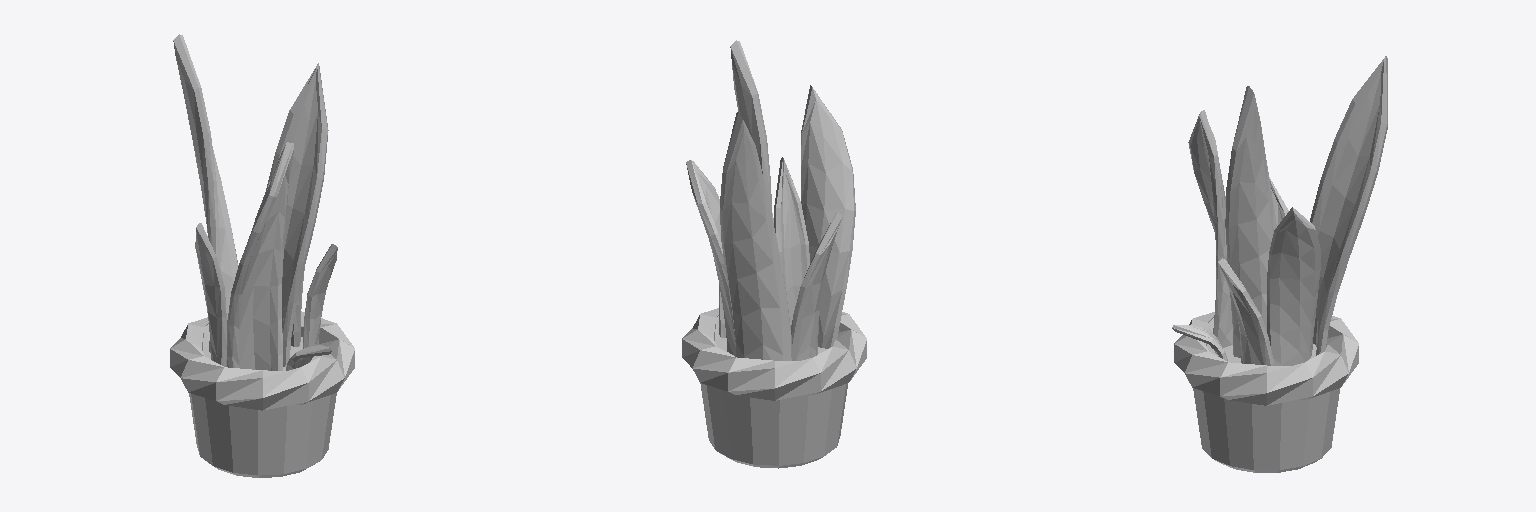
File: sansevieria_plant_large_potted.obj
The picture shows the model from 3 angles: view 1: azimuth 30°, elevation 25°; view 2: azimuth 150°, elevation 25°; view 3: azimuth 270°, elevation 25°; orthographic projection.
Parts seen in each view (by area): view 1: sansevieria_plant_large_potted; view 2: sansevieria_plant_large_potted; view 3: sansevieria_plant_large_potted.
Boxes of the visible parts, x1=… form: sansevieria_plant_large_potted: x1=170, y1=34, x2=354, y2=477; sansevieria_plant_large_potted: x1=682, y1=40, x2=866, y2=468; sansevieria_plant_large_potted: x1=1172, y1=56, x2=1387, y2=472.
Size of the model in its own units: 1.5 by 3.36 by 1.71.